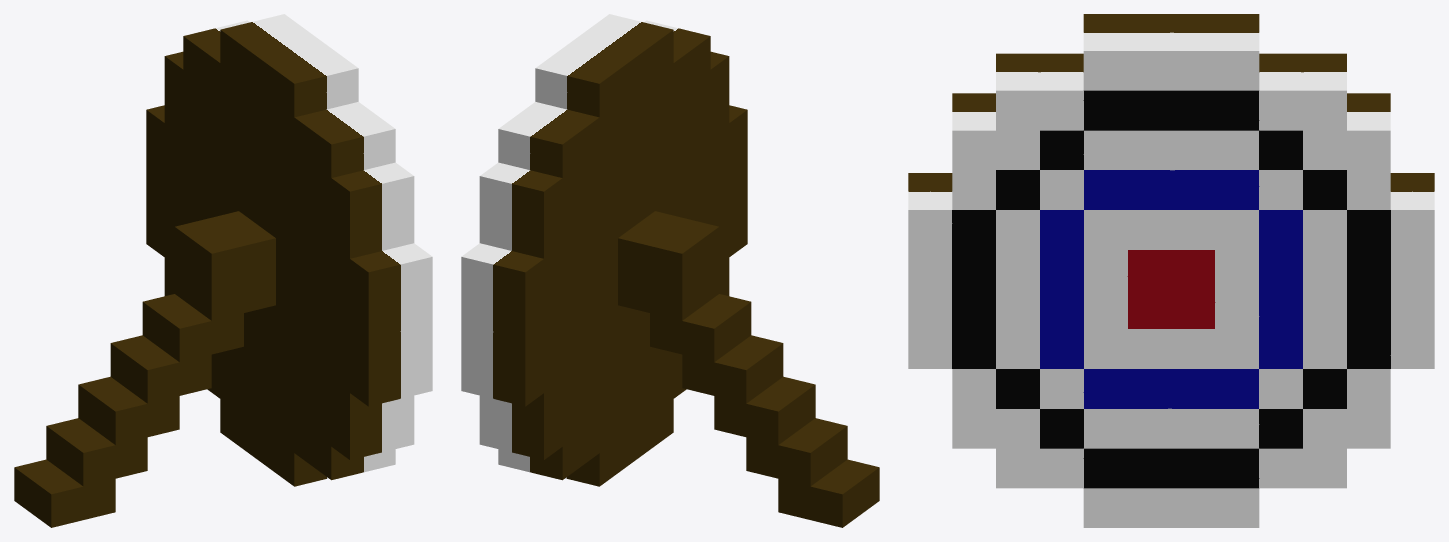
3 renders of one model, left to right at view 1: azimuth 30°, elevation 25°; view 2: azimuth 150°, elevation 25°; view 3: azimuth 270°, elevation 25°, orthographic. The views are drawn at different scales.
Visible parts, largest first — view 1: Matrix_14; view 2: Matrix_14; view 3: Matrix_14.
Boxes of the visible parts, x1=… form: Matrix_14: x1=14, y1=14, x2=432, y2=527; Matrix_14: x1=461, y1=14, x2=879, y2=527; Matrix_14: x1=908, y1=14, x2=1434, y2=527.
Size of the model in its own units: 9 by 12 by 12.
Materials: 1 (1 with a texture image).
